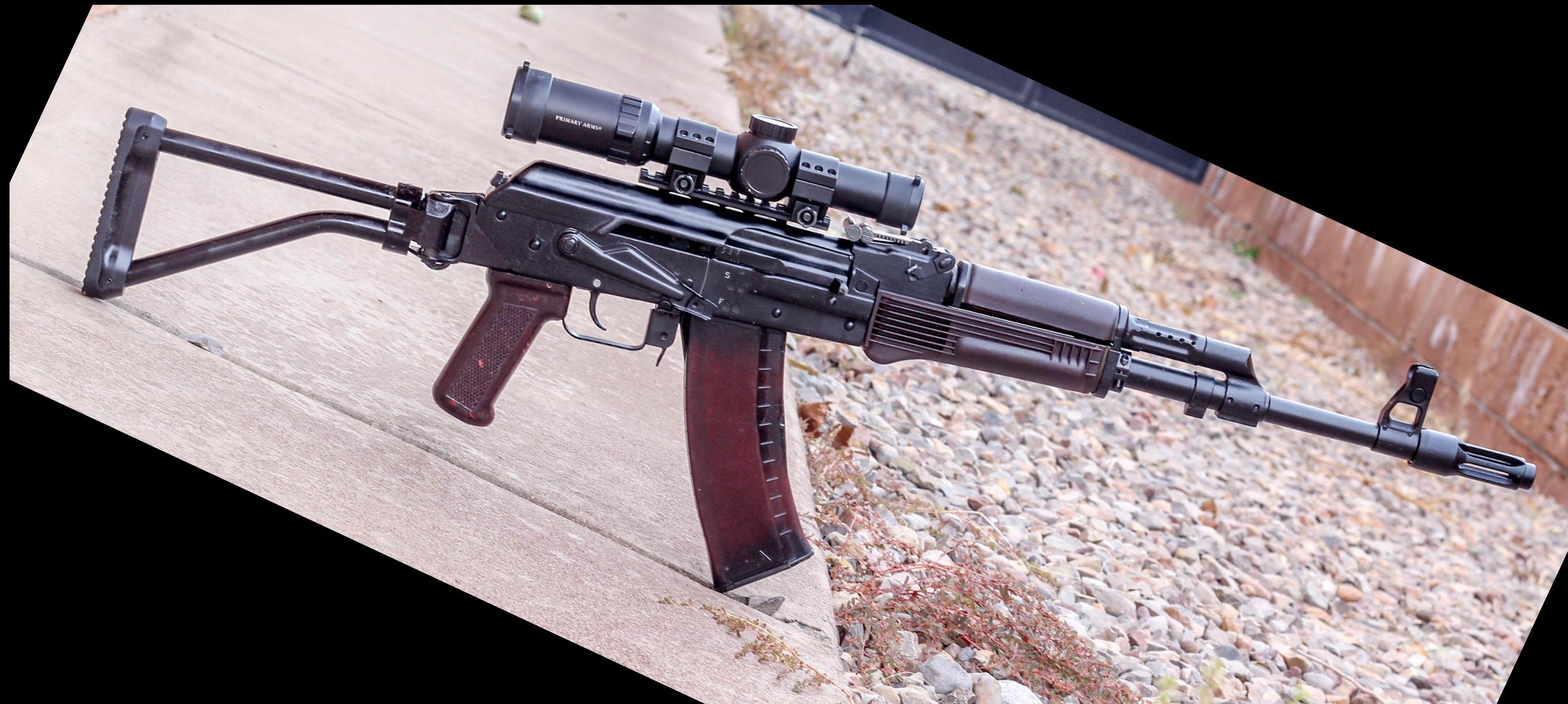larga: (79, 60, 1537, 596)
